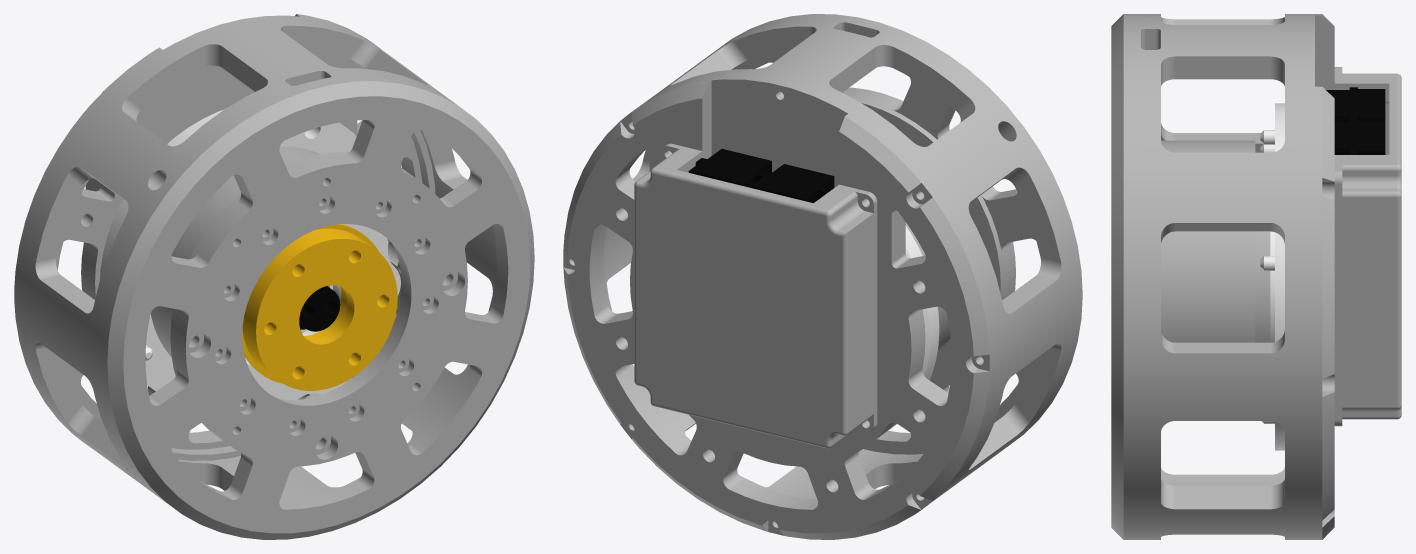
File: kinema.glb
3 views of the same model, side by side, from view 1: azimuth 30°, elevation 25°; view 2: azimuth 150°, elevation 25°; view 3: azimuth 270°, elevation 25° (orthographic). The views are drawn at different scales.
Parts seen in each view (by area): view 1: Enclosure, Slow Shaft Top Plate, Enclosure Cap, Base Plate, Cycloidal Cage, Top Cycloidal Gear, Eccentric Shaft; view 2: Enclosure Cap, Controller Cap, Enclosure, Motor Controller, Base Plate; view 3: Enclosure, Controller Cap, Enclosure Cap, Cycloidal Cage, Motor Controller, Base Plate.
Part boxes in pixels (left/top/right/bottom): Enclosure: left=22, top=19, right=534, bottom=539; Slow Shaft Top Plate: left=242, top=224, right=397, bottom=390; Enclosure Cap: left=14, top=14, right=435, bottom=460; Base Plate: left=100, top=109, right=356, bottom=390; Cycloidal Cage: left=150, top=146, right=401, bottom=399; Top Cycloidal Gear: left=245, top=224, right=400, bottom=399; Eccentric Shaft: left=299, top=286, right=340, bottom=331; Enclosure Cap: left=563, top=76, right=997, bottom=539; Controller Cap: left=634, top=143, right=877, bottom=448; Enclosure: left=604, top=14, right=1082, bottom=499; Motor Controller: left=688, top=149, right=834, bottom=202; Base Plate: left=885, top=226, right=939, bottom=432; Enclosure: left=1111, top=14, right=1304, bottom=539; Controller Cap: left=1334, top=67, right=1401, bottom=426; Enclosure Cap: left=1305, top=14, right=1334, bottom=539; Cycloidal Cage: left=1161, top=140, right=1270, bottom=342; Motor Controller: left=1326, top=87, right=1385, bottom=154; Base Plate: left=1260, top=103, right=1284, bottom=450.
Bounding box in the file's own units: 0.106 × 0.1059 × 0.0585.
